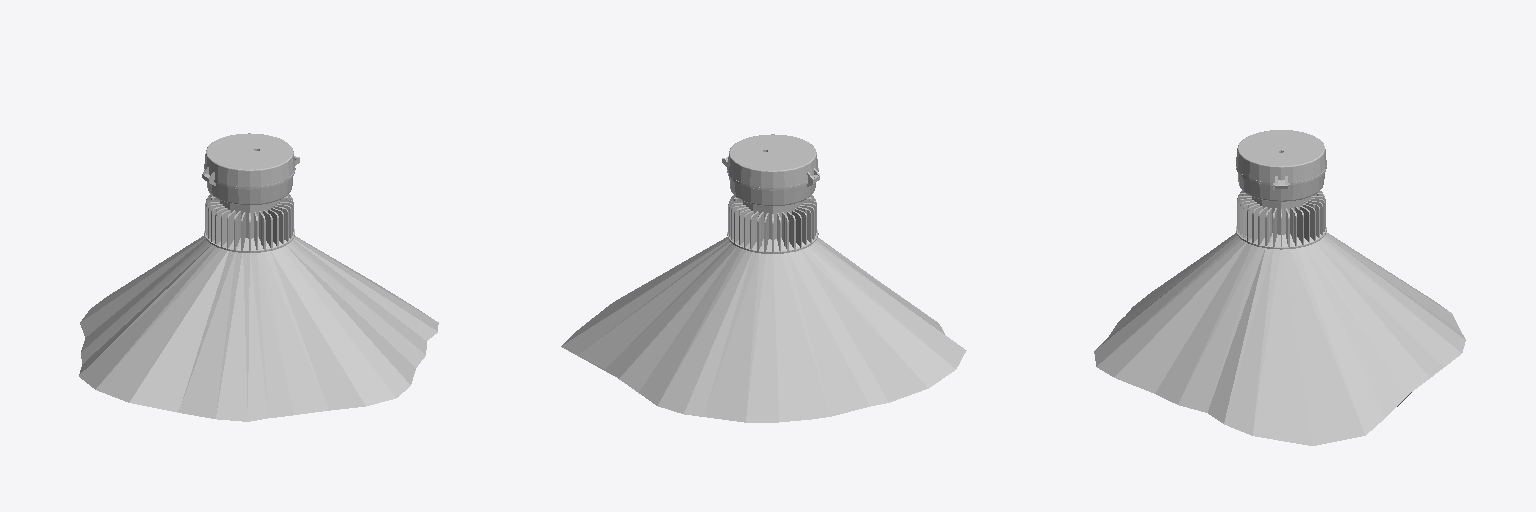
The picture shows the model from 3 angles: view 1: azimuth 30°, elevation 25°; view 2: azimuth 150°, elevation 25°; view 3: azimuth 270°, elevation 25°; orthographic projection.
Parts seen in each view (by area): view 1: VMV7L2HA_UNV1_; view 2: VMV7L2HA_UNV1_; view 3: VMV7L2HA_UNV1_.
Boxes of the visible parts, x1=… form: VMV7L2HA_UNV1_: x1=79, y1=133, x2=438, y2=421; VMV7L2HA_UNV1_: x1=561, y1=134, x2=966, y2=422; VMV7L2HA_UNV1_: x1=1094, y1=130, x2=1465, y2=445.
Bounding box in the file's own units: 44.64 × 25.71 × 41.19.